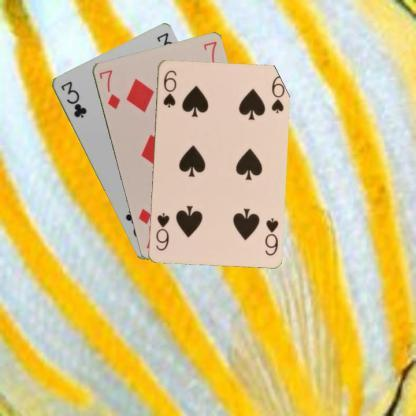3c: (58, 78, 88, 119)
6s: (262, 214, 280, 257), (160, 67, 178, 109)
7d: (96, 67, 122, 110)
